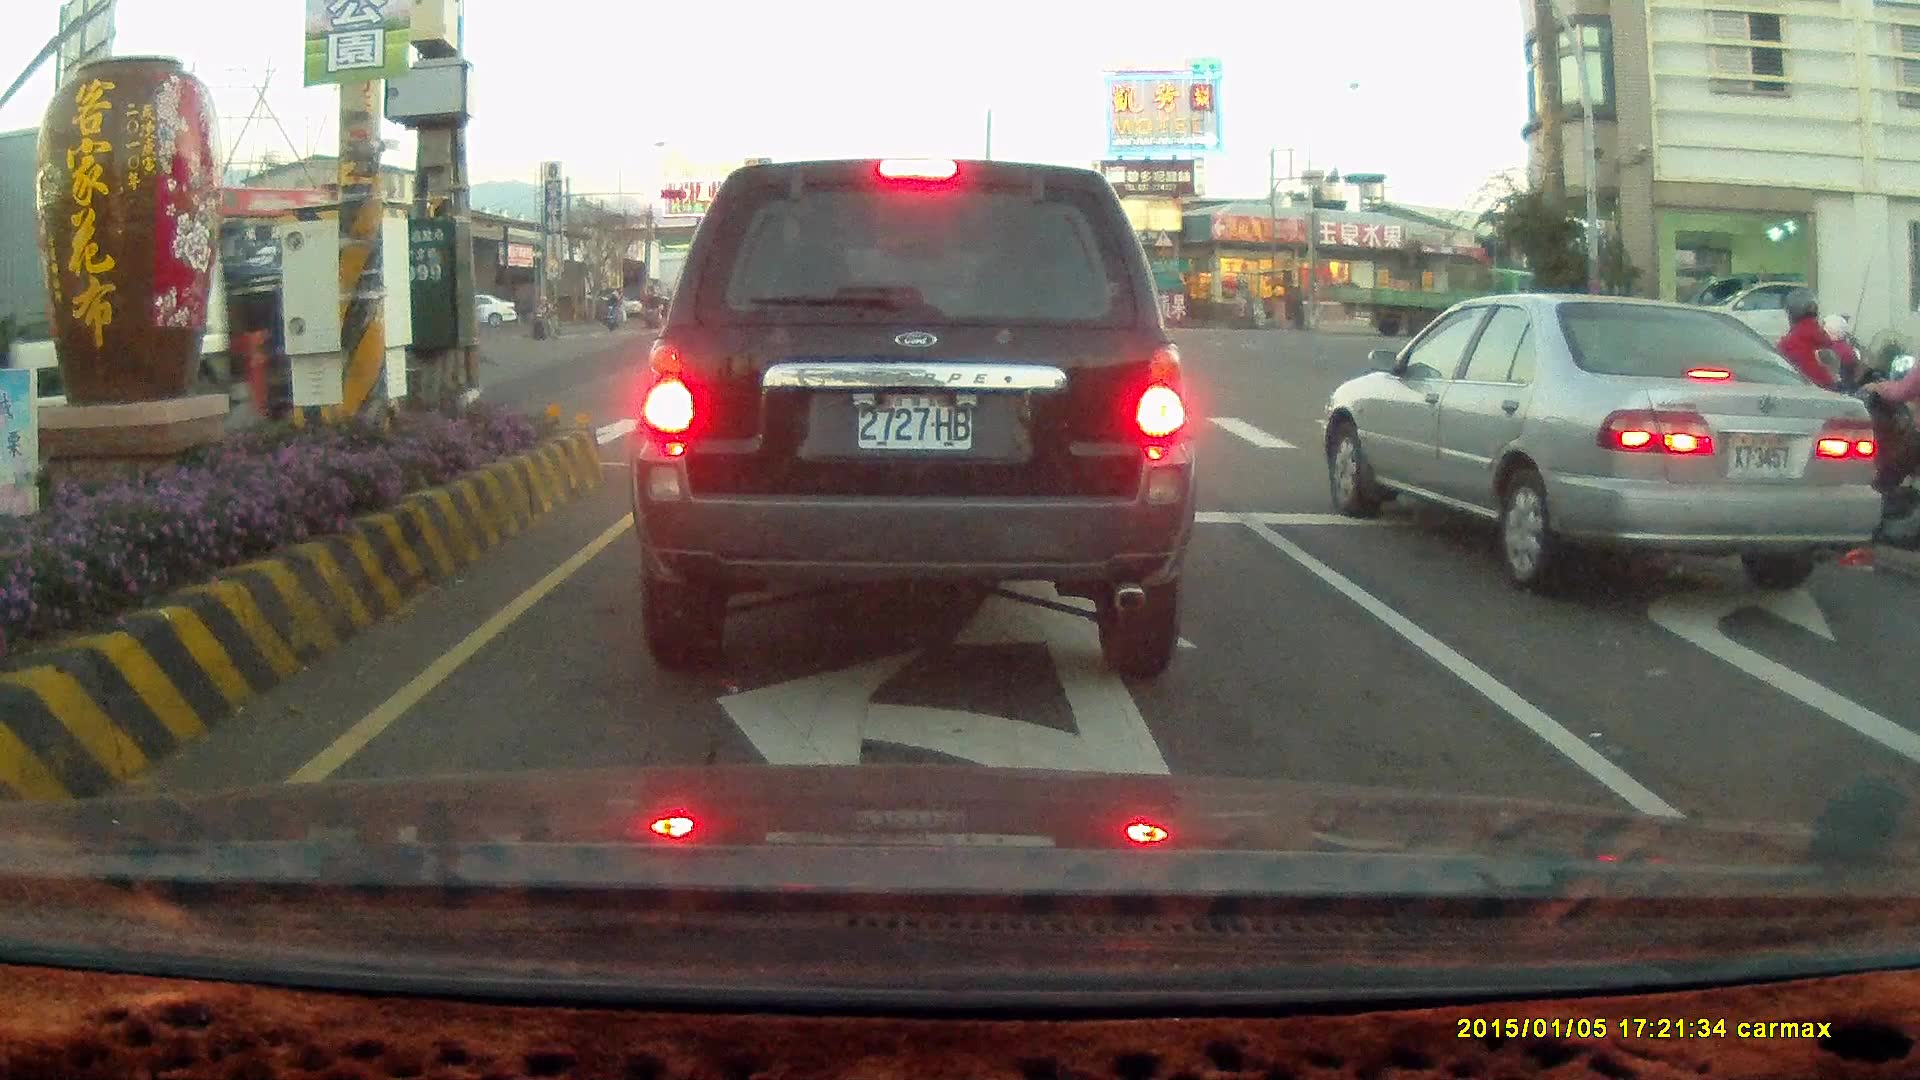rider: (1720, 287, 1860, 543), (1808, 342, 1920, 573), (529, 289, 562, 339), (602, 290, 623, 331), (646, 292, 667, 329)
vehicle: (628, 155, 1197, 681), (1320, 291, 1884, 599), (1336, 295, 1881, 581), (1656, 276, 1861, 372), (1668, 275, 1823, 373), (1896, 493, 1920, 836)
